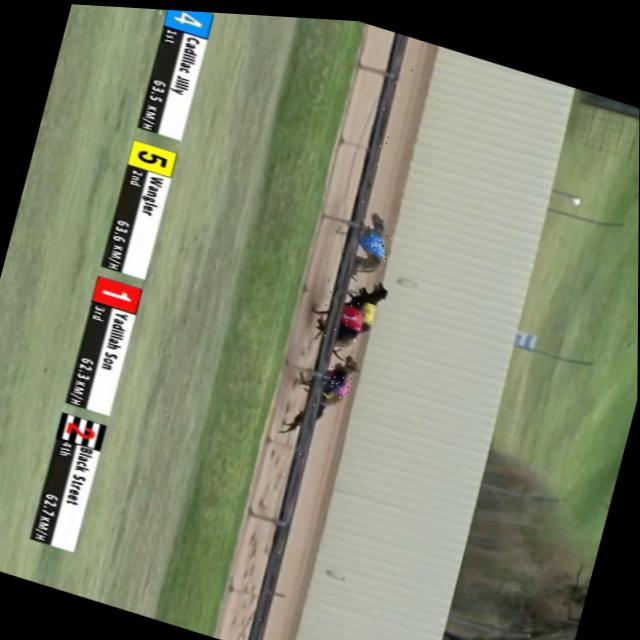dog_eight: (317, 363, 352, 397)
dog_five: (352, 294, 379, 324)
dog_four: (357, 223, 391, 256)
dog_one: (332, 296, 364, 326)
dog_seven: (308, 377, 338, 406)
rail: (247, 26, 406, 640)
